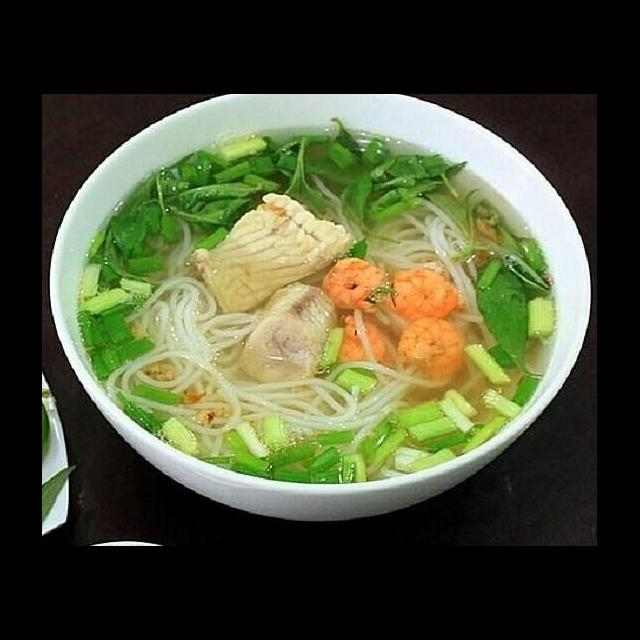bun: (102, 271, 266, 443), (250, 354, 422, 454), (358, 211, 466, 268)
bun ca: (69, 121, 591, 545)
ca: (186, 188, 358, 318), (234, 278, 340, 389)
rau ram: (473, 253, 538, 382), (364, 151, 472, 220), (270, 135, 334, 221)
tom: (382, 263, 468, 326), (318, 255, 396, 319), (398, 315, 468, 386), (334, 312, 389, 370)
